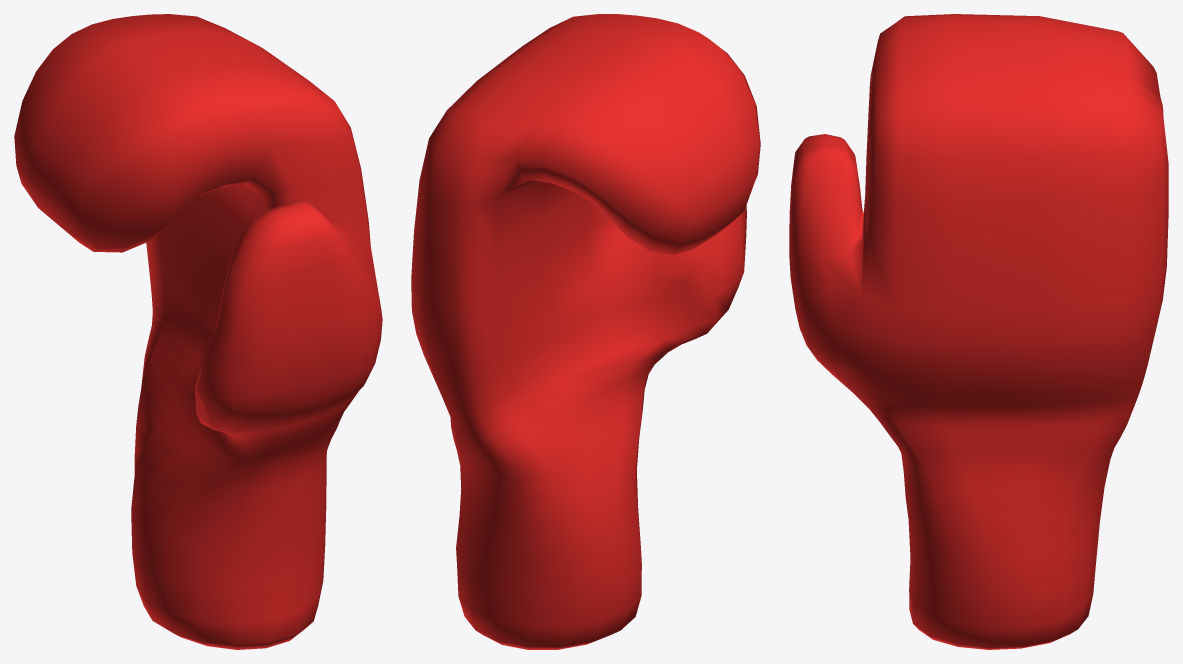
Rendered from jedna rękawica bokserska .fbx.
3 renders of one model, left to right at view 1: azimuth 30°, elevation 25°; view 2: azimuth 150°, elevation 25°; view 3: azimuth 270°, elevation 25°, orthographic. The views are drawn at different scales.
Parts seen in each view (by area): view 1: Cube.015; view 2: Cube.015; view 3: Cube.015.
Boxes of the visible parts, left/top/right/bottom form: Cube.015: left=14, top=14, right=382, bottom=649; Cube.015: left=411, top=14, right=760, bottom=649; Cube.015: left=789, top=14, right=1168, bottom=649.
Size of the model in its own units: 431 by 860 by 527.
